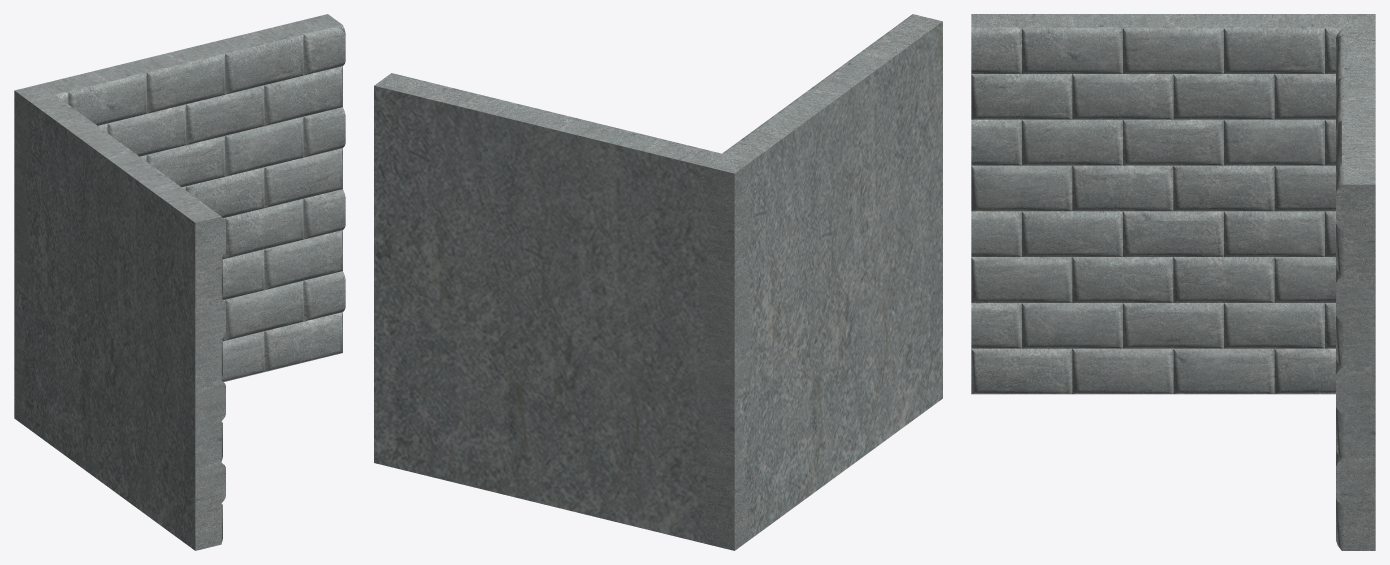
The model's file is Geomorph-StoneBrick-wall03.glb.
3 renders of one model, left to right at view 1: azimuth 30°, elevation 25°; view 2: azimuth 150°, elevation 25°; view 3: azimuth 270°, elevation 25°, orthographic. The views are drawn at different scales.
Parts seen in each view (by area): view 1: Wall; view 2: Wall; view 3: Wall.
Boxes of the visible parts, box(x1,y1,x2,y2) form: Wall: box(14, 14, 345, 550); Wall: box(374, 14, 942, 550); Wall: box(971, 14, 1375, 550).
Bounding box in the file's own units: 3 × 3 × 3.
Materials: 1 (1 with a texture image).
